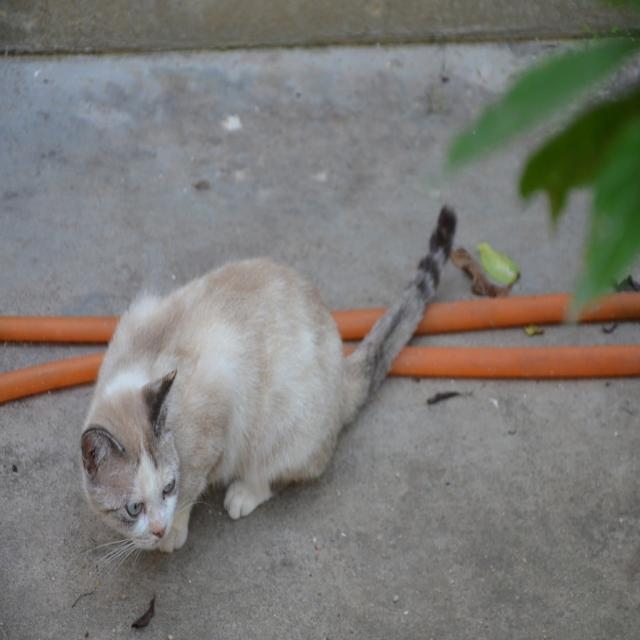Cat: (76, 201, 457, 554)
